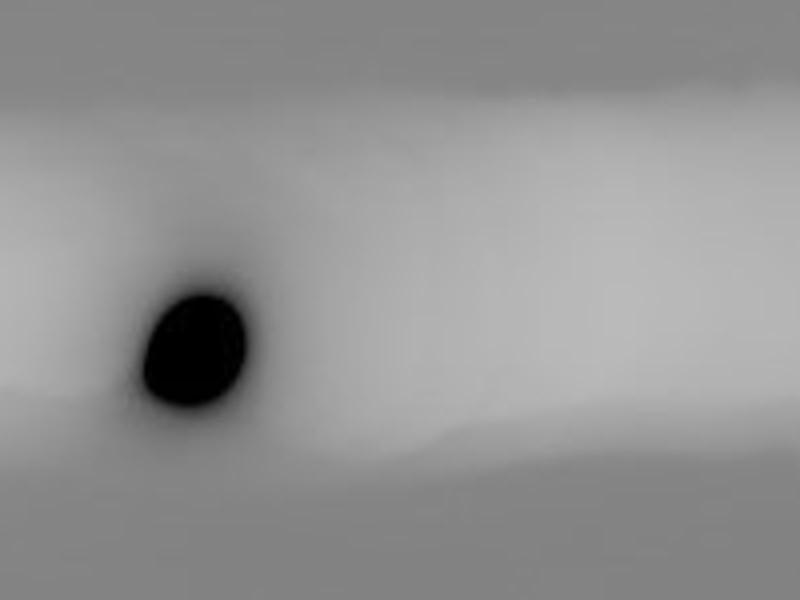defect: (143, 294, 249, 407)
